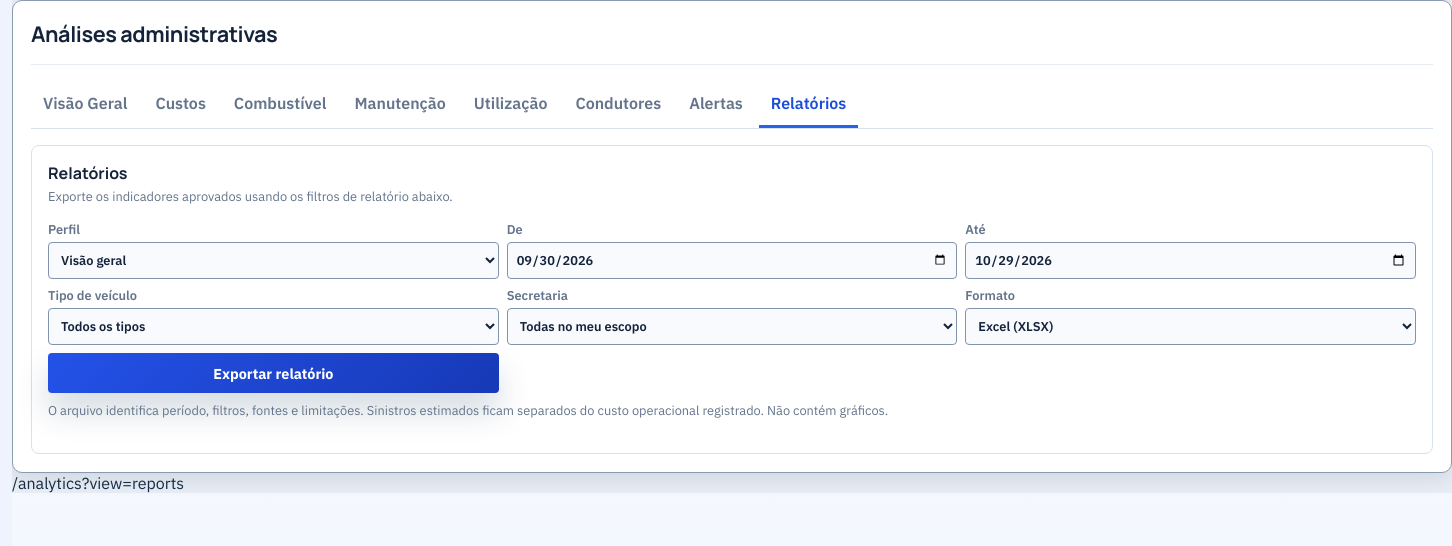
Test: Analytics — fundação V1 › informa falha de exportação V2 sem perder filtros
Click the button "Exportar relatório".
click(273, 373)  # box [48, 353, 499, 393]
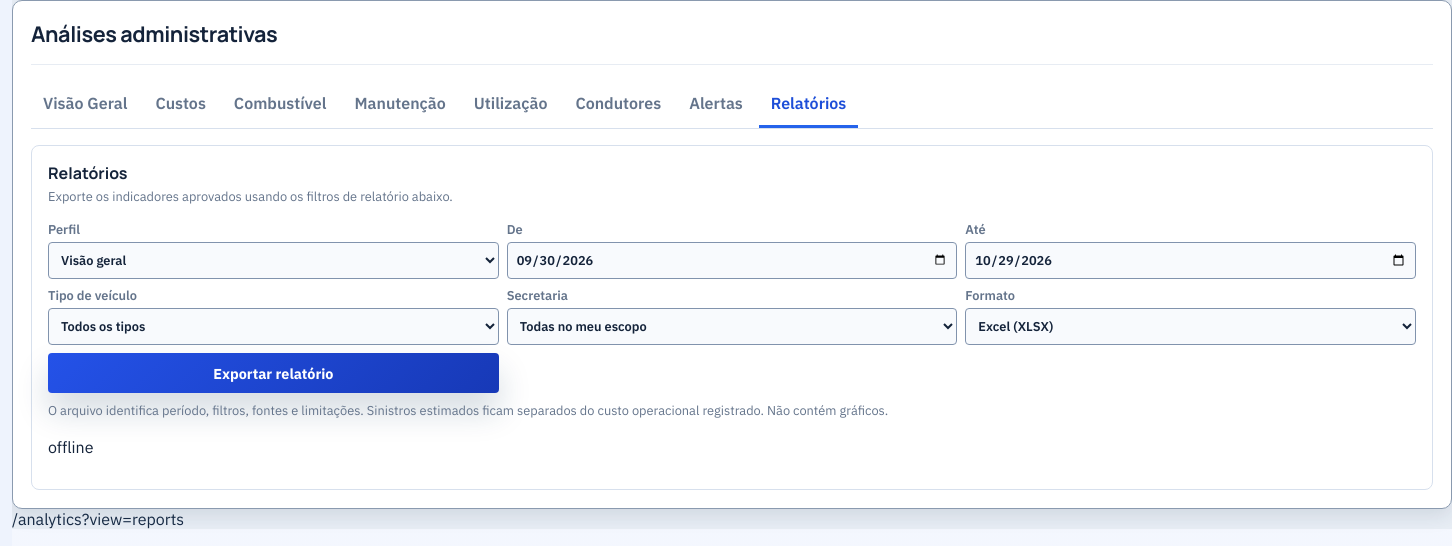
Now the message "offline" is shown, box [48, 437, 94, 457]
